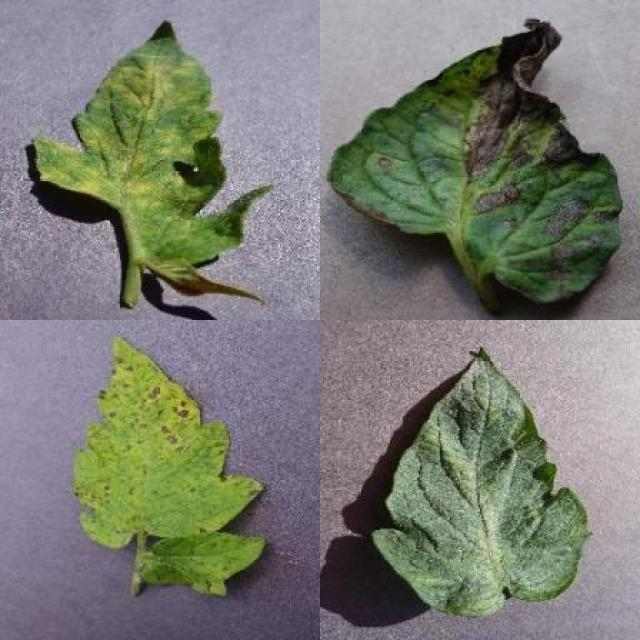Early Blight: (332, 20, 627, 306)
Leaf Mold: (35, 19, 272, 264)
Septoria: (74, 337, 266, 597)
Spider Mites: (375, 344, 588, 616)
